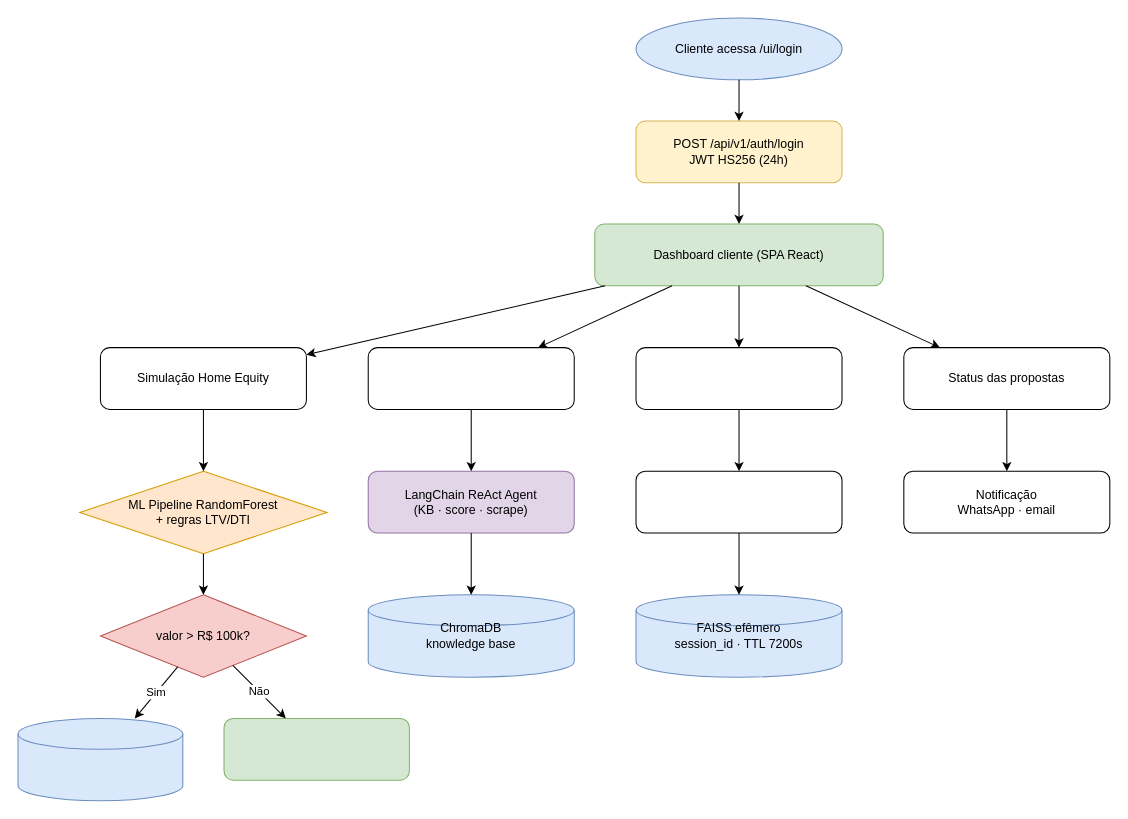
This 1128x819 diagram has some shape labels left out. The shapes that lost their labels are listed below. From the top down, each one's box as (x1, y1, x2, y2) in pixels, then its label:
(367, 347, 574, 409): Chat conversacional
(635, 347, 842, 409): Upload de documentos
(635, 470, 842, 533): Docling parser
(17, 717, 183, 801): Fila do analista (Postgres)
(223, 717, 409, 780): Aprovação automática
